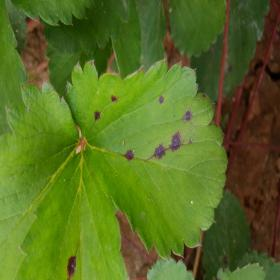Leaf Spot: (64, 58, 228, 261), (14, 143, 130, 279), (190, 0, 271, 102), (200, 187, 251, 279)
